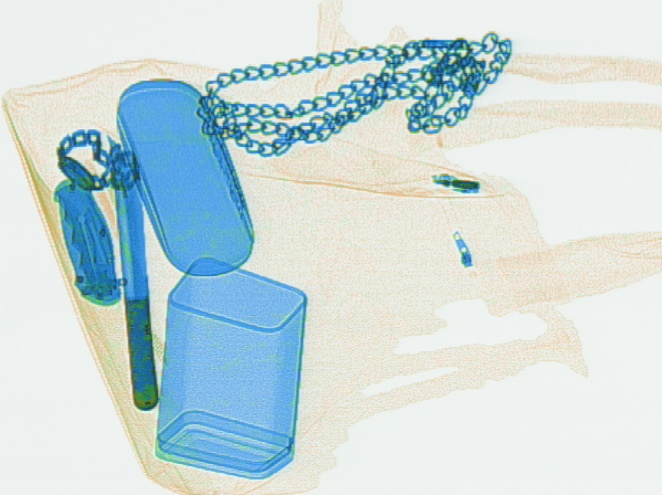knife: (106, 133, 160, 411), (50, 174, 122, 305)
